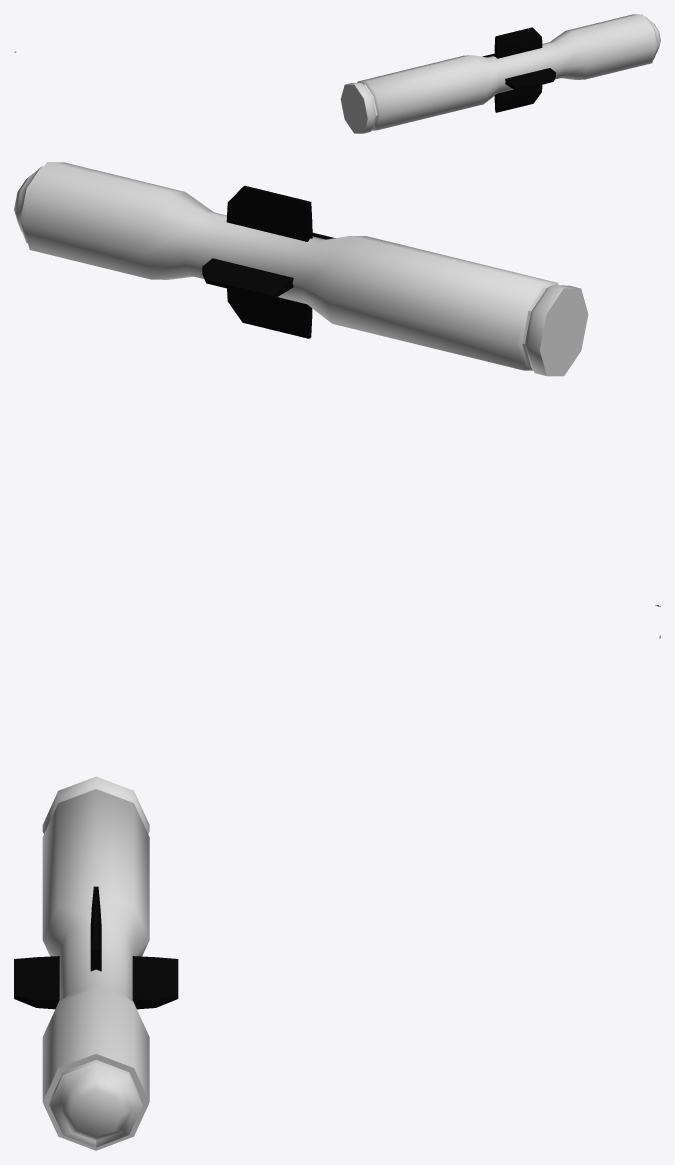
File: skystrikermodern.fbx
3 renders of one model, top to bottom at view 1: azimuth 30°, elevation 25°; view 2: azimuth 150°, elevation 25°; view 3: azimuth 270°, elevation 25°, orthographic. The views are drawn at different scales.
Visible parts, largest first — view 1: Cylinder, Cube.001, Cube; view 2: Cylinder, Cube.001, Cube; view 3: Cylinder, Cube, Cube.001.
Part boxes in pixels (bbox=[...]): Cylinder: bbox=[340, 14, 660, 133]; Cube.001: bbox=[494, 27, 542, 112]; Cube: bbox=[482, 53, 555, 90]; Cylinder: bbox=[14, 162, 588, 376]; Cube.001: bbox=[226, 185, 312, 338]; Cube: bbox=[202, 232, 335, 299]; Cylinder: bbox=[42, 776, 149, 1150]; Cube: bbox=[14, 956, 178, 1009]; Cube.001: bbox=[90, 886, 101, 971].
Size of the model in its own units: 211 by 30.7 by 121.
